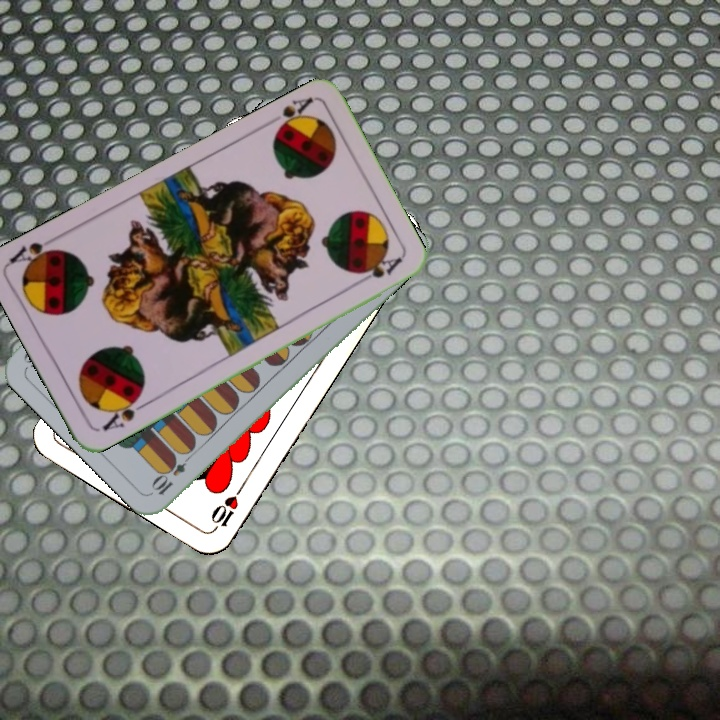E10: (148, 448, 196, 498)
H10: (206, 481, 247, 534)
SA: (98, 390, 150, 434), (269, 92, 316, 139)
